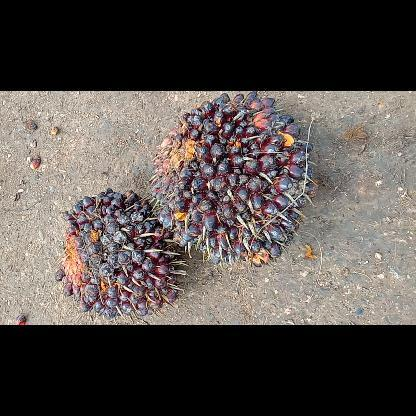Kurang masak: (148, 90, 320, 270), (50, 183, 186, 318)
